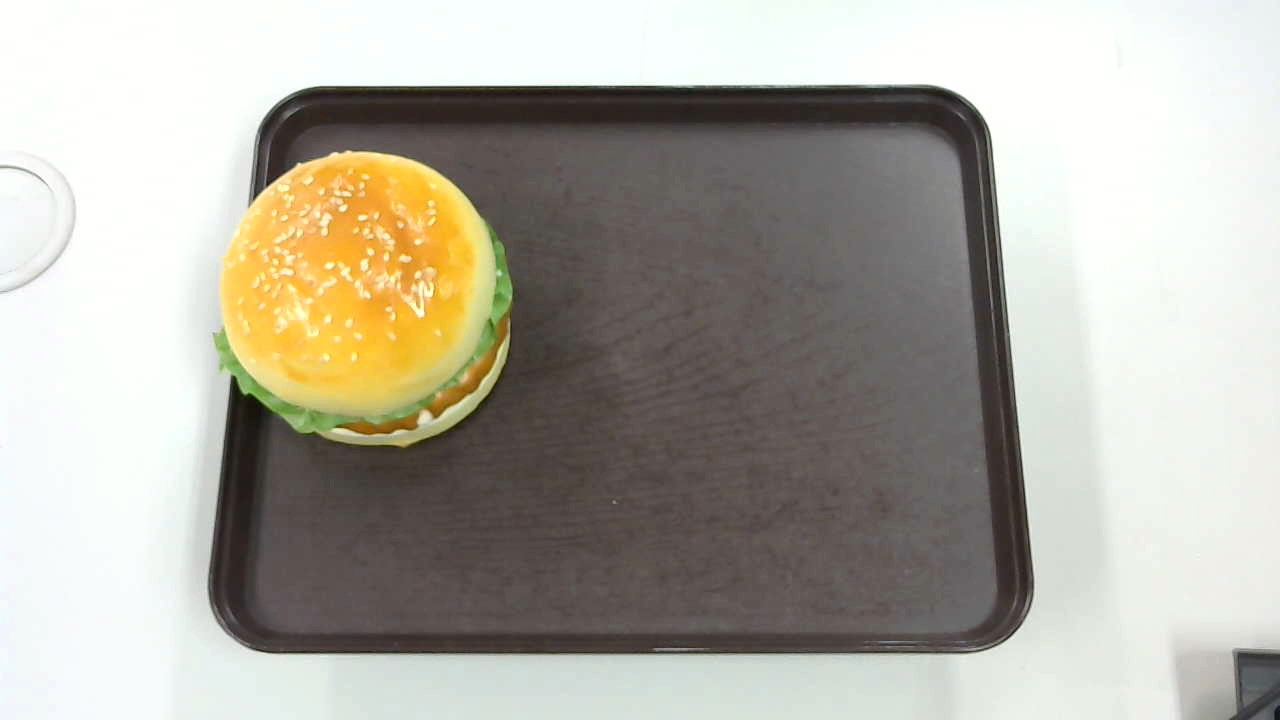hamburger: (214, 149, 512, 449)
